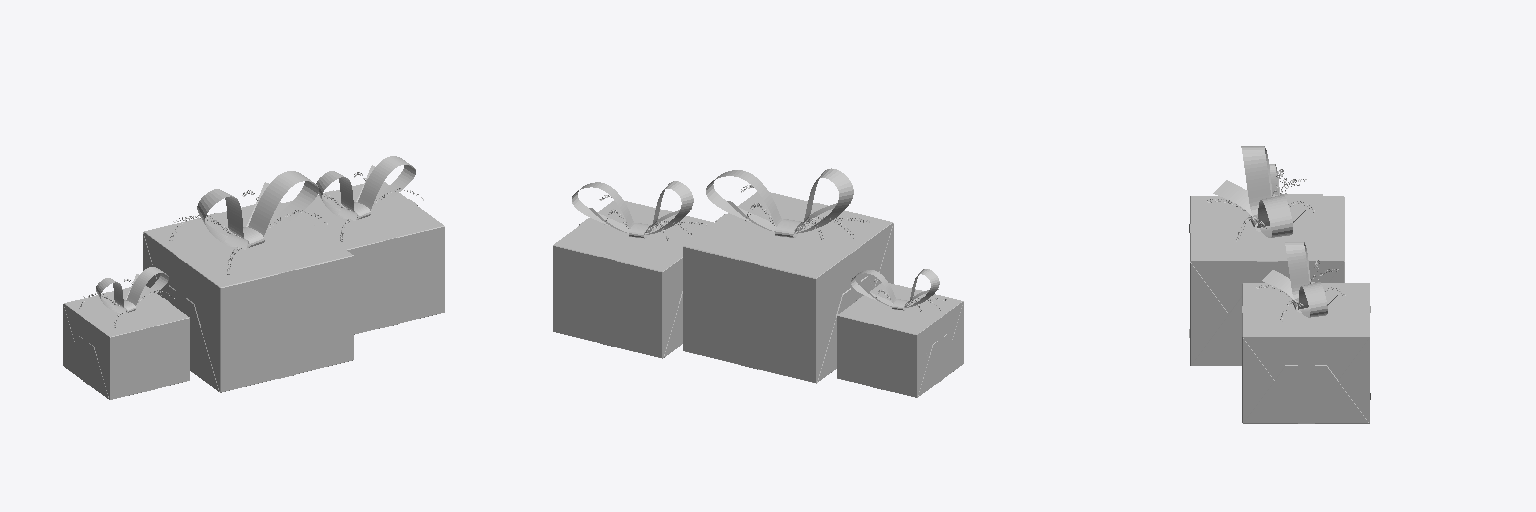
File: deneme.obj
3 renders of one model, left to right at view 1: azimuth 30°, elevation 25°; view 2: azimuth 150°, elevation 25°; view 3: azimuth 270°, elevation 25°, orthographic.
Parts seen in each view (by area): view 1: Mesh; view 2: Mesh; view 3: Mesh.
Part boxes in pixels (x1,y1,x2,y2): Mesh: (63, 156, 444, 399); Mesh: (553, 168, 963, 397); Mesh: (1189, 146, 1370, 423).
Bounding box in the file's own units: 39.86 × 18.41 × 17.84.